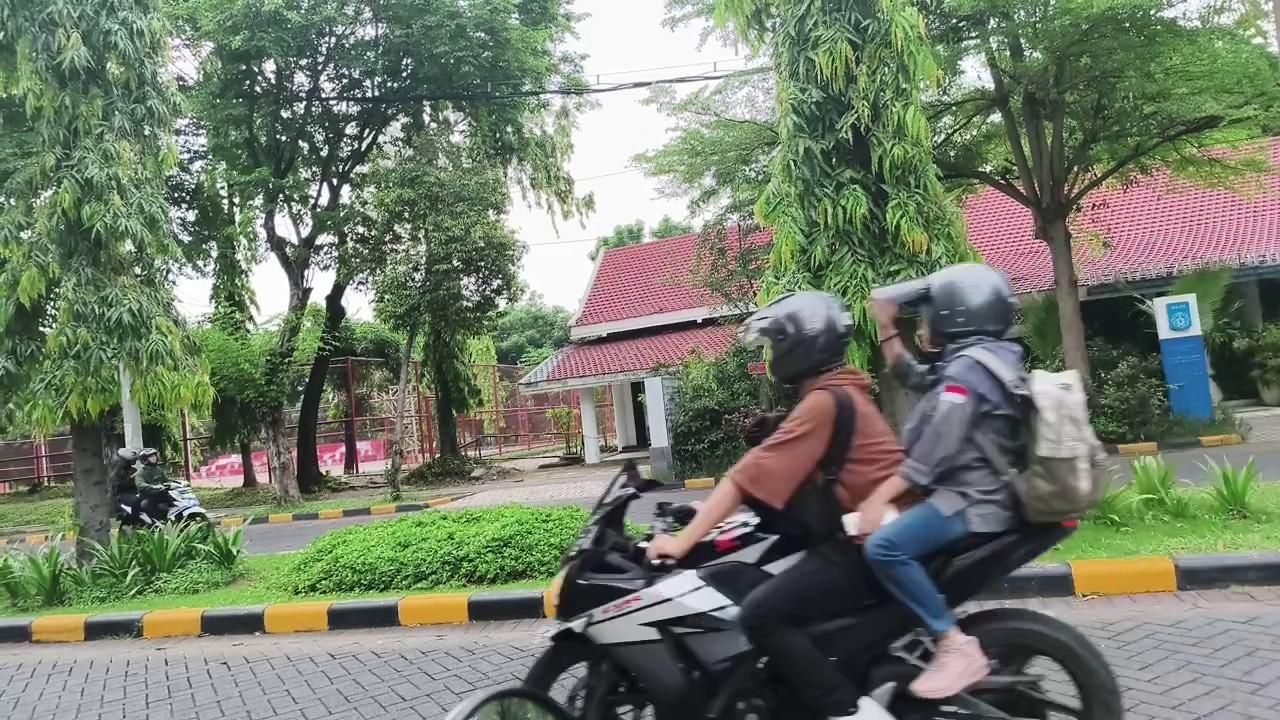Helmet: (647, 291, 902, 717), (859, 264, 1026, 698), (113, 448, 168, 522)
Motor: (525, 463, 812, 719), (116, 480, 208, 529)
